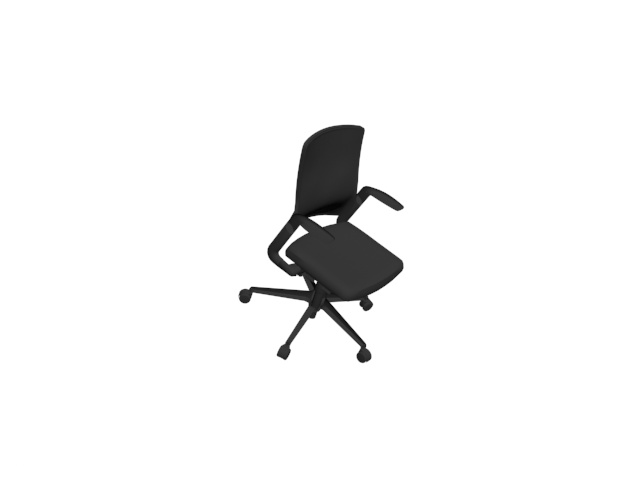desk_chair: (233, 121, 408, 368)
